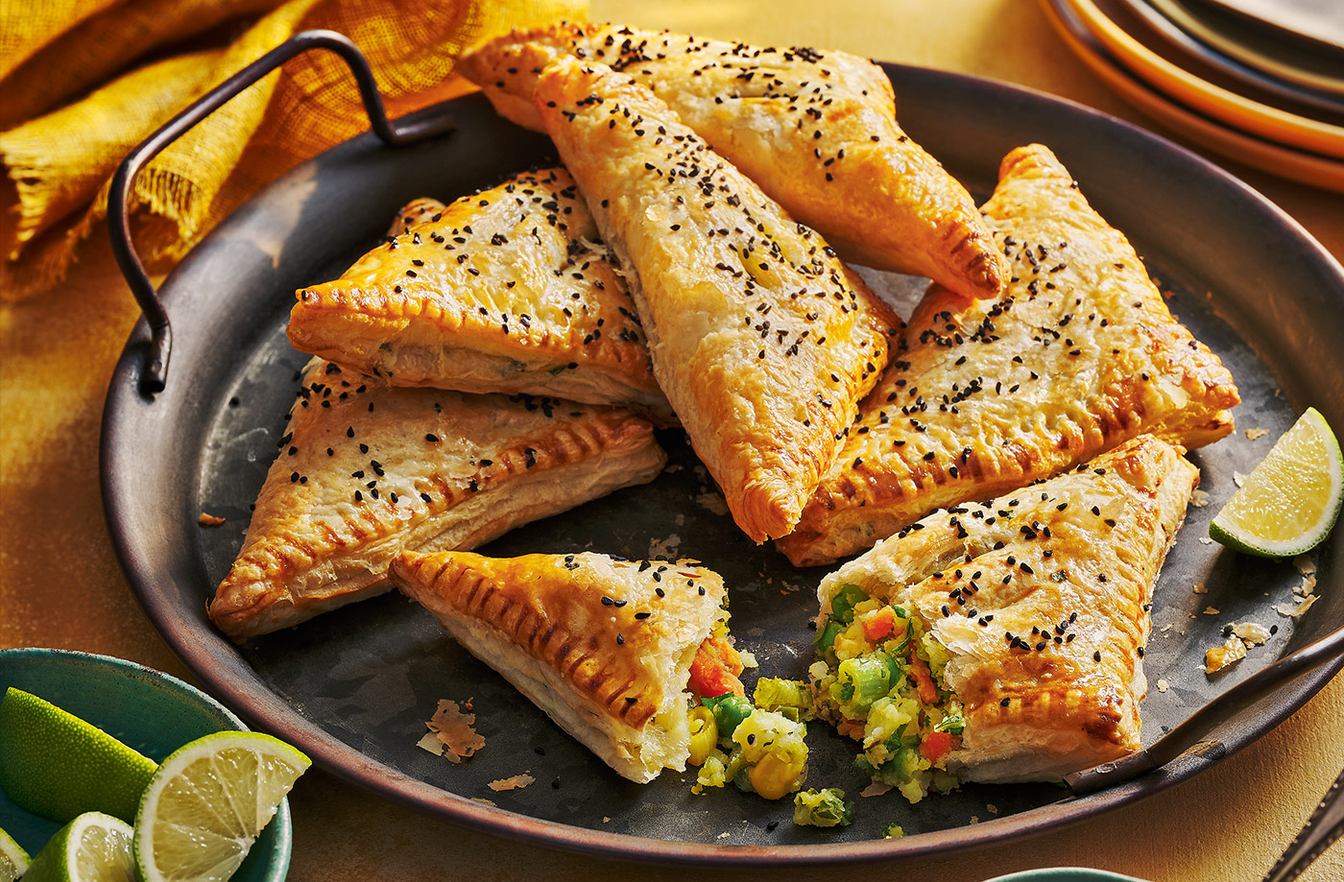samosa: (789, 136, 1242, 532), (545, 48, 897, 524), (451, 19, 1012, 288), (799, 449, 1194, 800), (207, 347, 660, 626), (288, 157, 653, 434), (403, 541, 747, 800)
